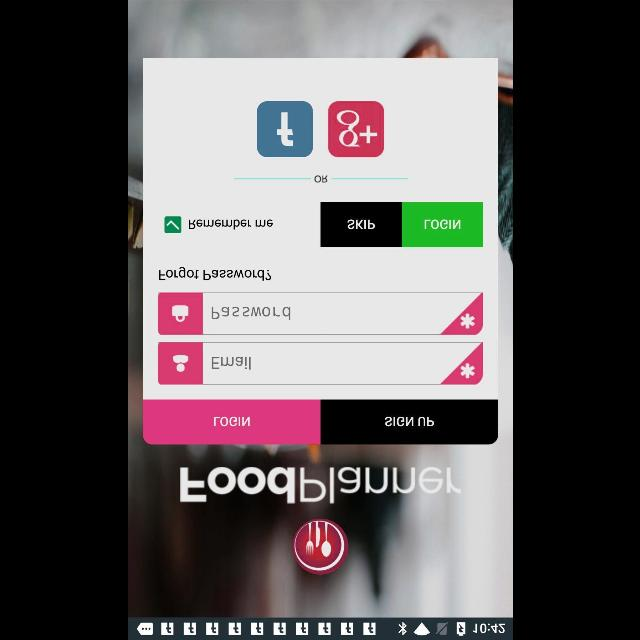checkbox: (163, 216, 180, 234)
icon: (256, 100, 312, 158), (327, 101, 383, 157), (170, 304, 188, 322), (172, 356, 188, 372)
image: (292, 518, 348, 574)
input: (158, 342, 482, 384), (158, 293, 482, 335)
text: (179, 464, 461, 504), (158, 267, 270, 281), (211, 306, 289, 320), (188, 220, 272, 230), (210, 356, 250, 370), (313, 175, 327, 183)
textbutton: (320, 400, 498, 444), (143, 400, 320, 444), (320, 202, 400, 248), (402, 202, 482, 248)
uppertaskbar: (128, 617, 512, 639)
